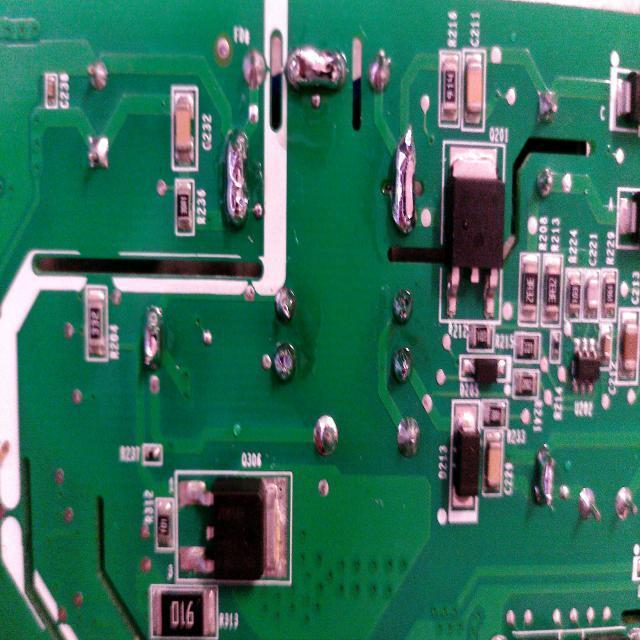Soldering shorted: (280, 40, 350, 100), (390, 119, 421, 246), (222, 125, 252, 228), (530, 438, 558, 512), (137, 307, 166, 373)
